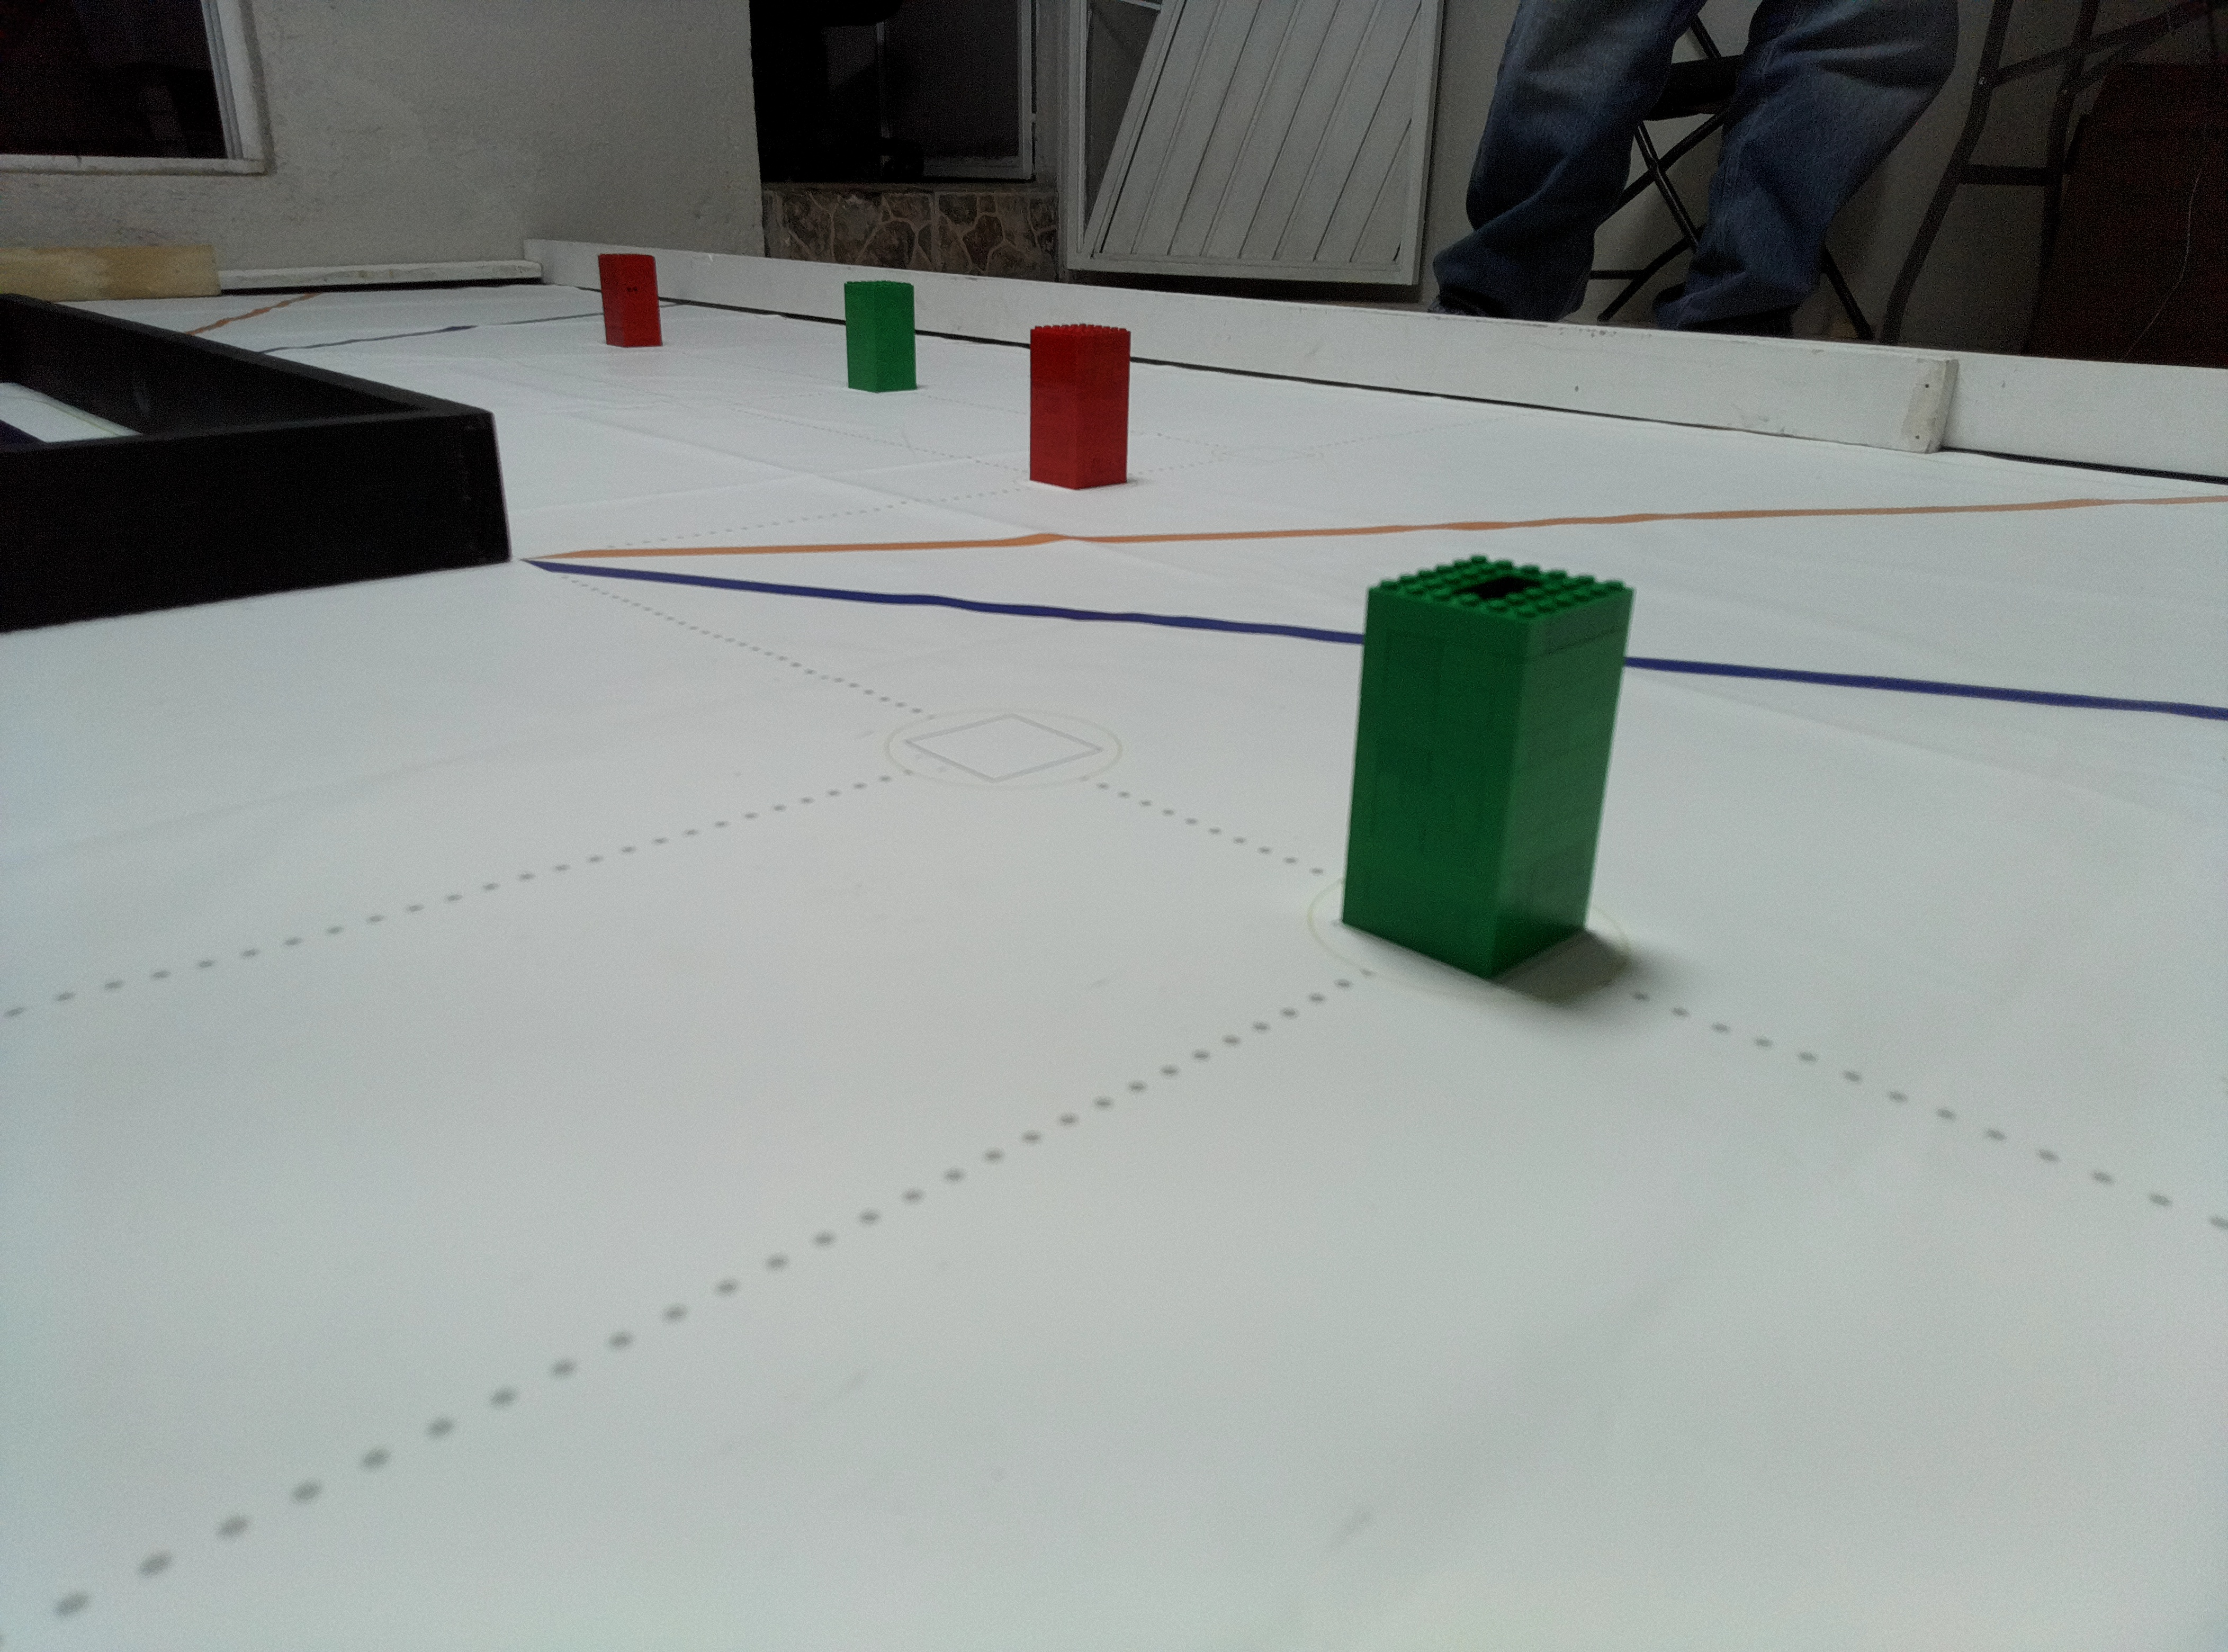greenbox: (1338, 543, 1633, 973), (838, 278, 916, 394)
redbox: (1026, 321, 1131, 493), (592, 255, 668, 345)
